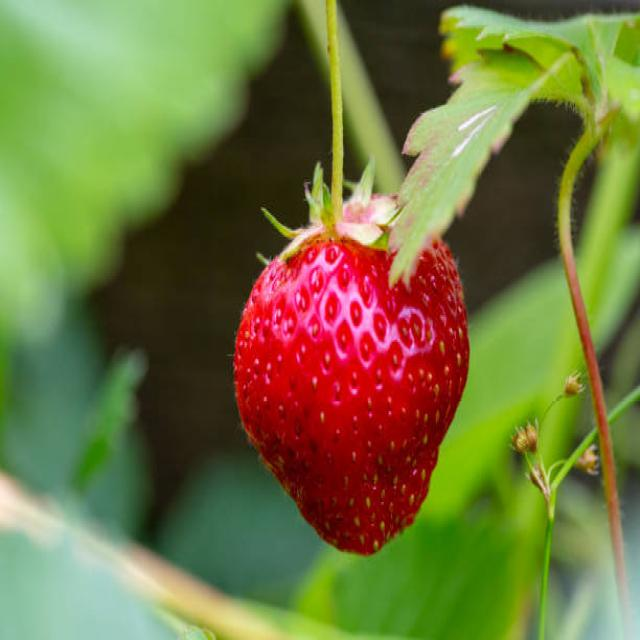Healthy Fruit: (236, 209, 470, 556)
